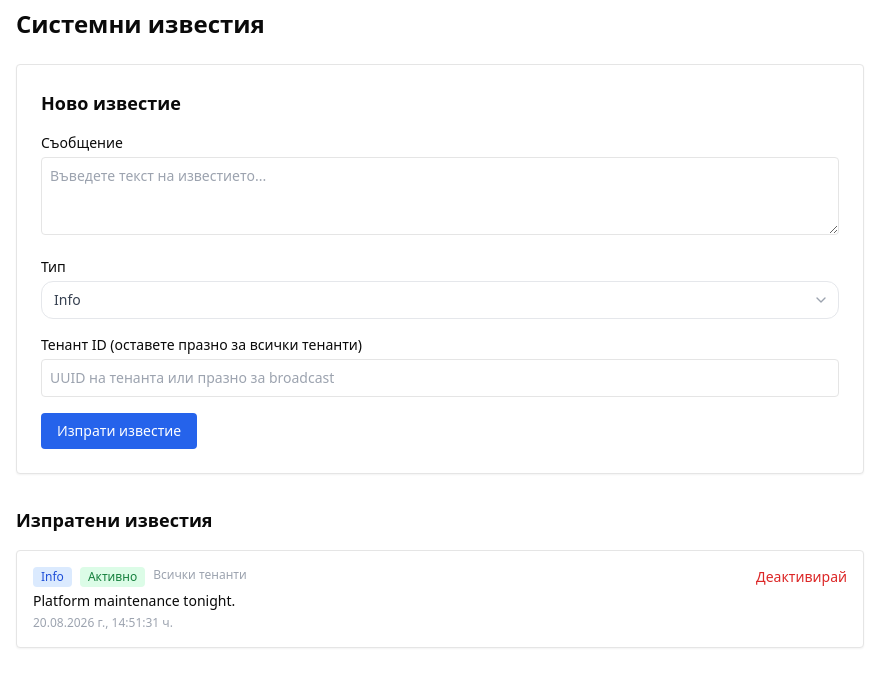
SystemNotificationsPage › shows error when deactivate fails
Expected: the text "Platform maintenance tonight." is shown, 33,591 -> 235,610
Click the button with aria-label "деактивирай известие".
click(802, 577)  # box 756,567 -> 847,587
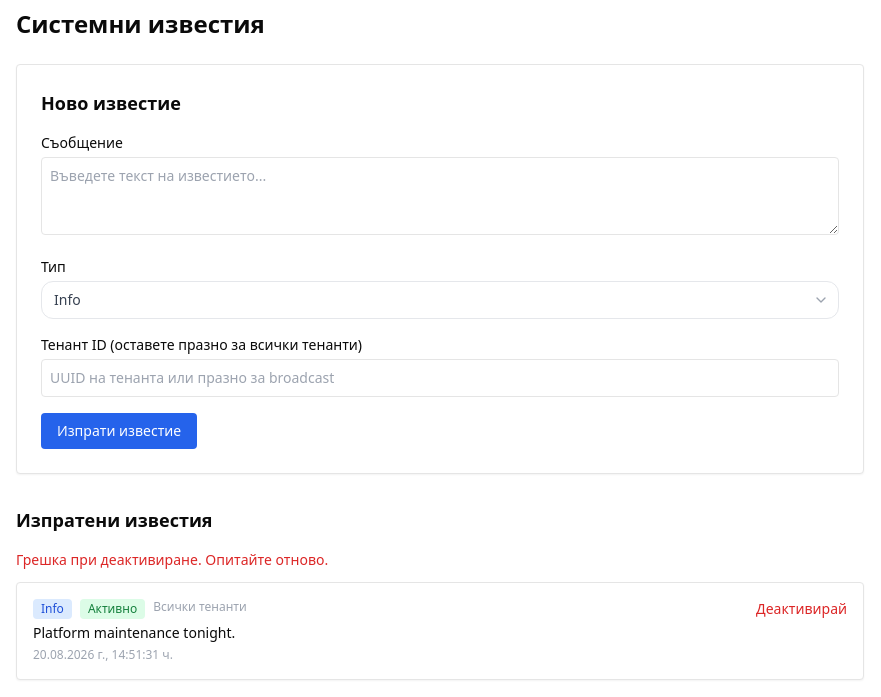
Now the text "Грешка при деактивиране. Опитайте отново." is shown, box 16,550 -> 328,569
